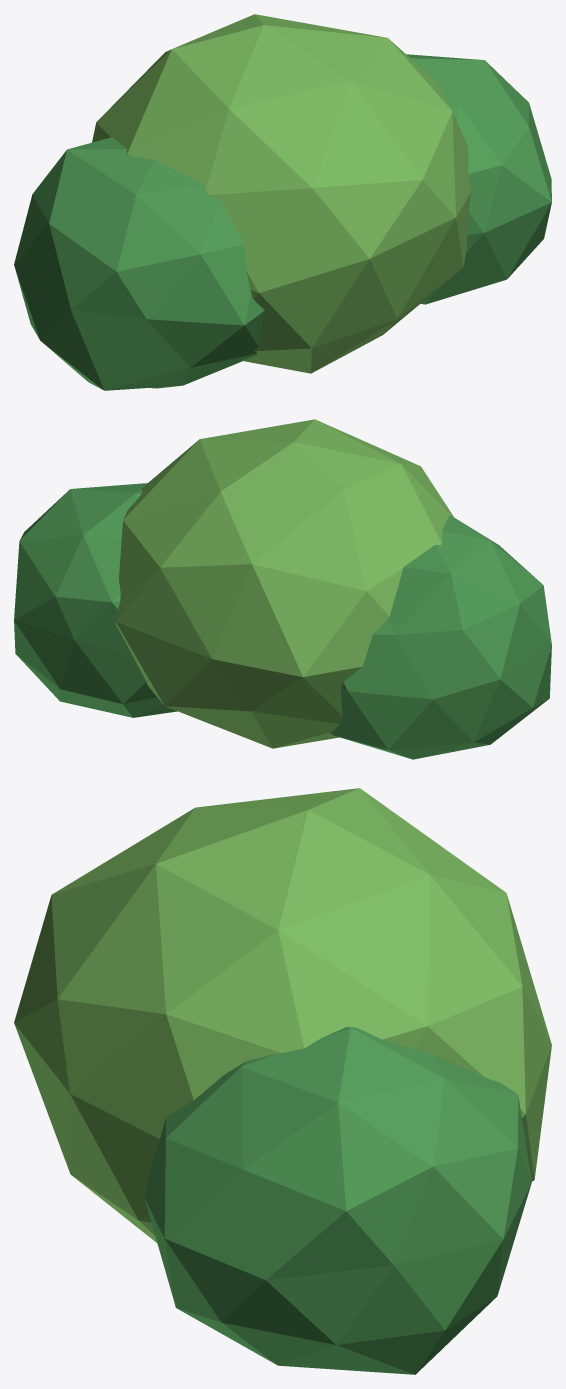
Rendered from arbusto_b.glb.
3 views of the same model, one above another, from view 1: azimuth 30°, elevation 25°; view 2: azimuth 150°, elevation 25°; view 3: azimuth 270°, elevation 25° (orthographic). The views are drawn at different scales.
Parts seen in each view (by area): view 1: Icosphere, Icosphere.002, Icosphere.001; view 2: Icosphere, Icosphere.002, Icosphere.001; view 3: Icosphere, Icosphere.001.
Part boxes in pixels (x1,y1,x2,y2): Icosphere: (92,14,471,373); Icosphere.002: (14,137,264,390); Icosphere.001: (406,54,551,304); Icosphere: (115,419,453,748); Icosphere.002: (330,515,551,759); Icosphere.001: (14,483,177,717); Icosphere: (14,788,551,1242); Icosphere.001: (144,1027,531,1374).
Size of the model in its own units: 1.62 by 0.9622 by 1.05.
